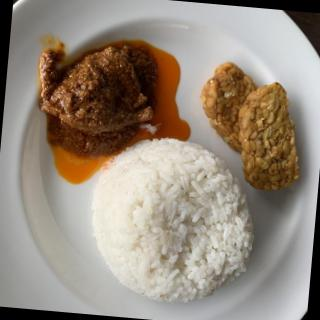Nasi: (85, 136, 264, 313)
